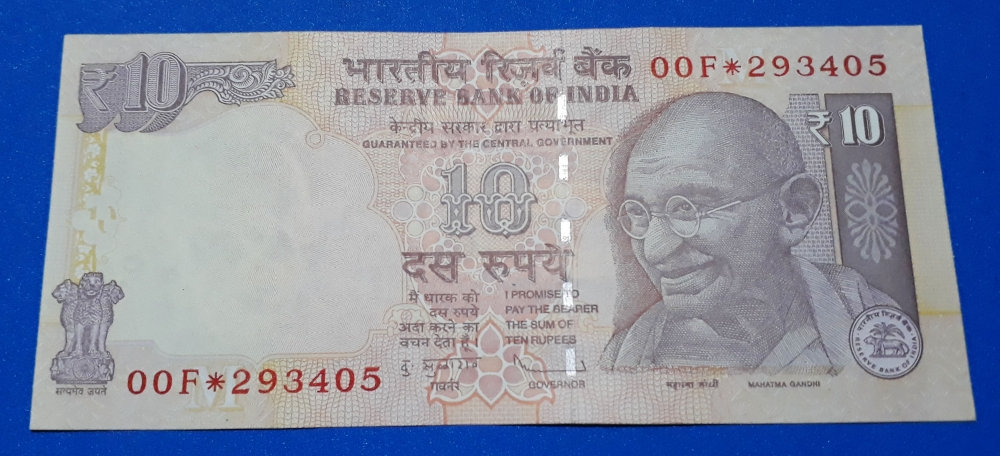ten_rupees_note: (32, 34, 977, 422)
